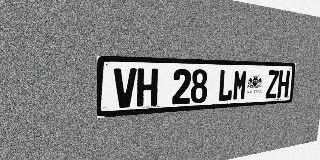2: (172, 69, 191, 105)
8: (190, 69, 208, 103)
H: (137, 68, 158, 107), (277, 70, 290, 98)
L: (217, 69, 234, 102)
M: (232, 70, 248, 101)
V: (114, 68, 137, 108)
Z: (265, 70, 279, 99)
